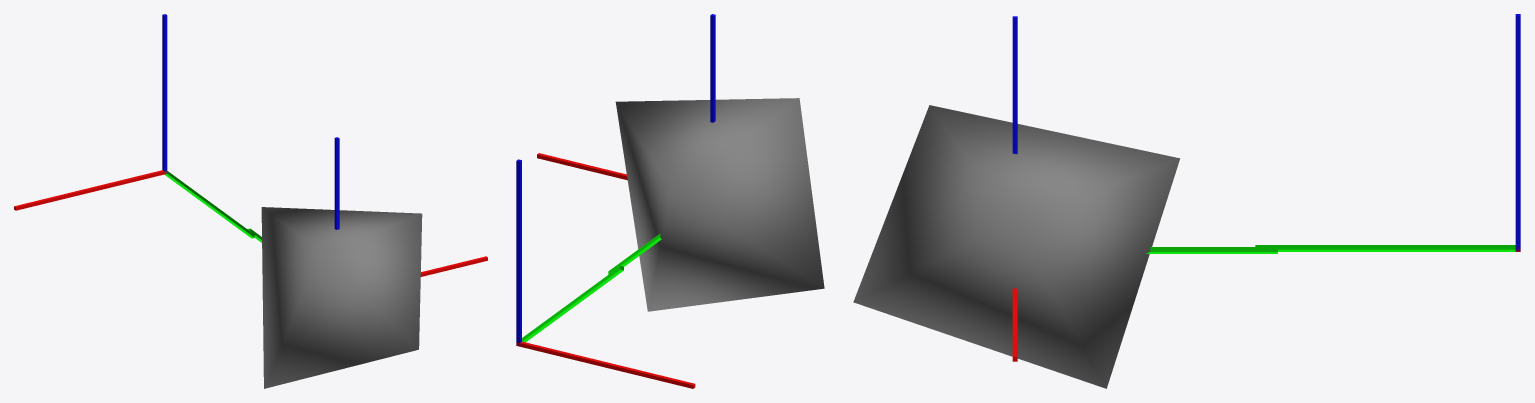
The model's file is petrobolos-b.glb.
3 views of the same model, side by side, from view 1: azimuth 30°, elevation 25°; view 2: azimuth 150°, elevation 25°; view 3: azimuth 270°, elevation 25° (orthographic). The views are drawn at different scales.
Parts seen in each view (by area): view 1: petro-bModel, Dummy_fire, Dummy_hotspot; view 2: petro-bModel, Dummy_fire, Dummy_hotspot; view 3: petro-bModel, Dummy_fire, Dummy_hotspot.
Part boxes in pixels (bbox=[...]): petro-bModel: bbox=[261, 207, 422, 388]; Dummy_fire: bbox=[14, 14, 254, 238]; Dummy_hotspot: bbox=[247, 137, 487, 276]; petro-bModel: bbox=[615, 98, 824, 311]; Dummy_fire: bbox=[516, 159, 695, 388]; Dummy_hotspot: bbox=[537, 14, 715, 274]; petro-bModel: bbox=[853, 105, 1180, 388]; Dummy_fire: bbox=[1255, 14, 1520, 251]; Dummy_hotspot: bbox=[1012, 16, 1277, 361].
Bounding box in the file's own units: 0.5 × 0.375 × 0.6417.
Materials: 2 (1 with a texture image).
